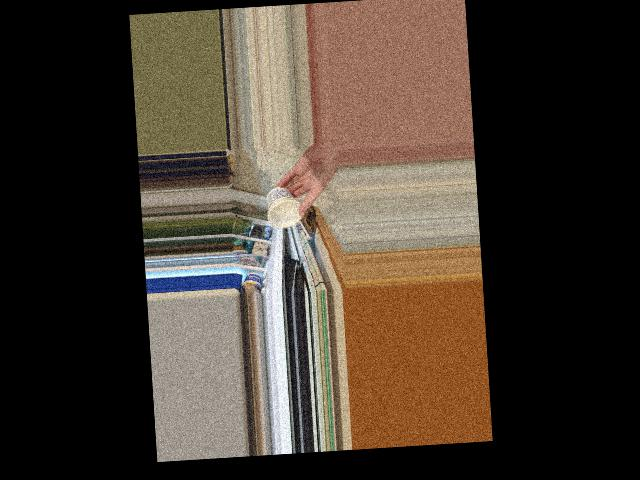cotage: (268, 187, 304, 223)
